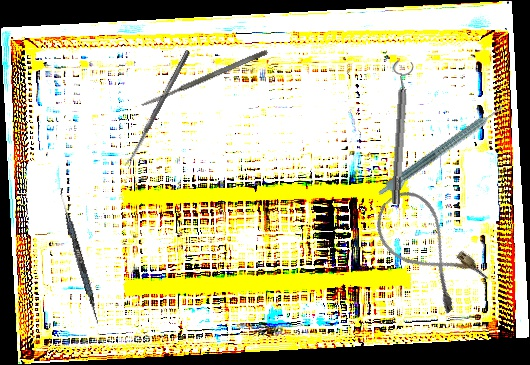Cannula: (363, 181, 492, 317)
Fixation Ring: (383, 60, 416, 206)
Handpiece: (376, 103, 509, 203)
Spatula Surgical: (139, 48, 269, 109), (54, 187, 104, 325)
Surgical Spoon: (123, 49, 191, 169)
